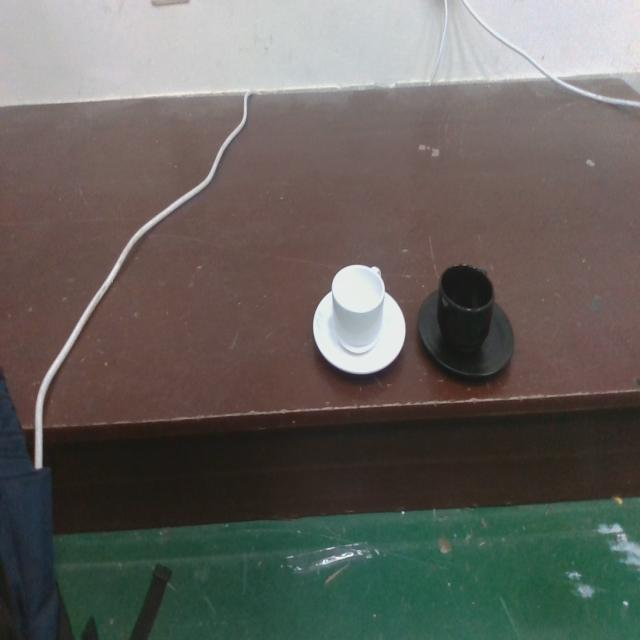black: (415, 258, 517, 384)
white: (310, 258, 409, 384)
